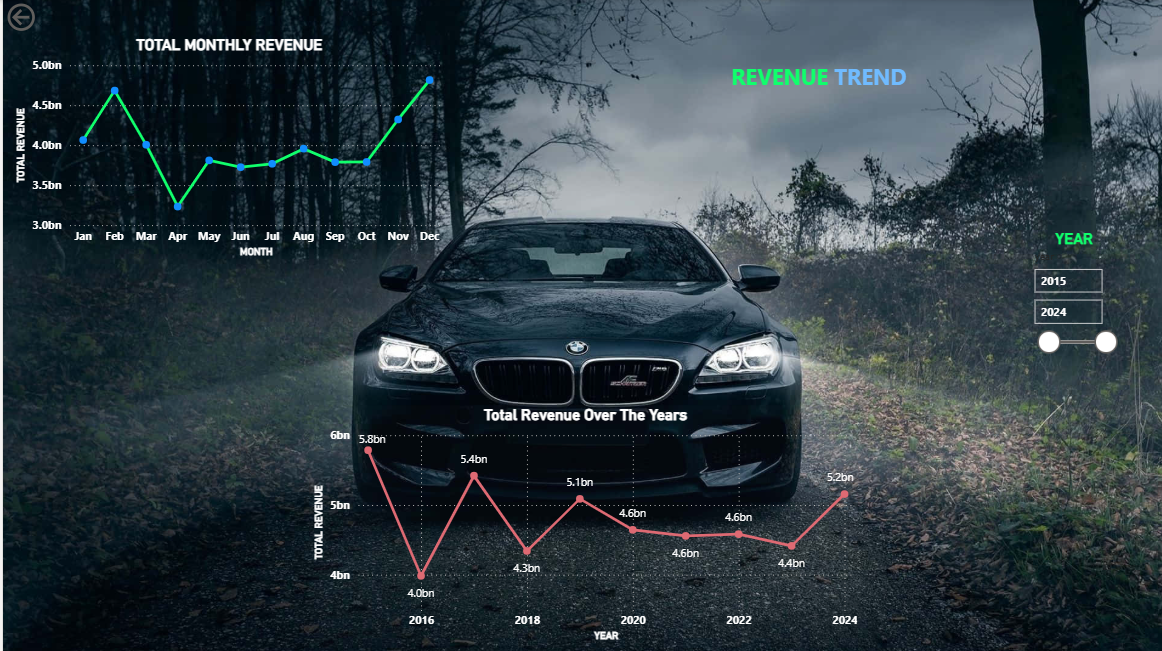

What the dashboard file says about the page in this screenshot:
{"tool":"powerbi","page":{"name":"Page 2","canvas":[1280,720],"ordinal":1},"visuals":[{"type":"actionButton","box":[0,0,100,40],"z":0},{"type":"slicer","title":"YEAR","fields":{"Values":["bmwsales_global.year"]},"box":[1119.6,252.1,112.2,159.3],"z":1000},{"type":"lineChart","title":"Total Revenue Over The Years","fields":{"Category":["bmwsales_global.year"],"Y":["Sum(bmwsales_global.Revenue_usd)"]},"box":[336.6,446.4,606.8,264.2],"z":2000},{"type":"lineChart","title":"TOTAL MONTHLY REVENUE","fields":{"Category":["bmwsales_global.Month Name"],"Y":["Sum(bmwsales_global.Revenue_usd)"]},"box":[9.7,39.8,477.8,248.5],"z":3000},{"type":"textbox","box":[795,65.1,220.8,49.5],"z":4000}]}

Visuals, with their boxes in screenshot pixels (x1, y1, x2, y2), scaled from the page's 1280x720 canvas onto the 1162x651 screenshot:
actionButton: crop(0, 0, 91, 36)
"YEAR" slicer: crop(1016, 228, 1118, 372)
"Total Revenue Over The Years" lineChart: crop(306, 404, 856, 643)
"TOTAL MONTHLY REVENUE" lineChart: crop(9, 36, 443, 261)
textbox: crop(722, 59, 922, 104)
